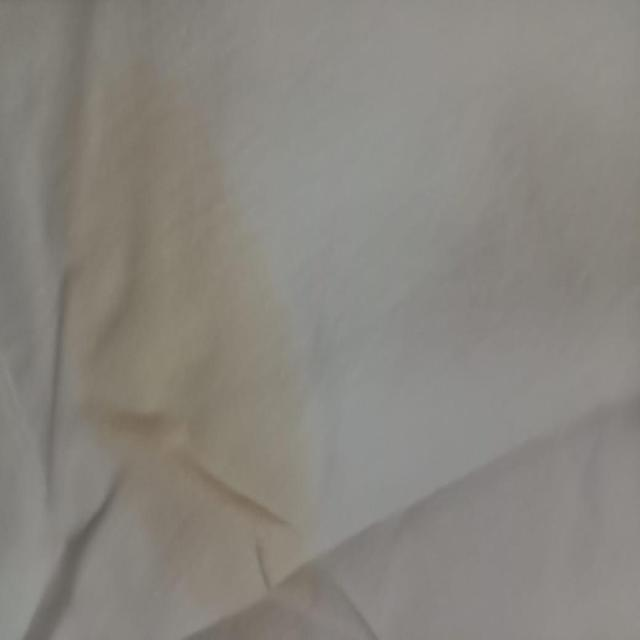stain: (56, 65, 304, 624)
